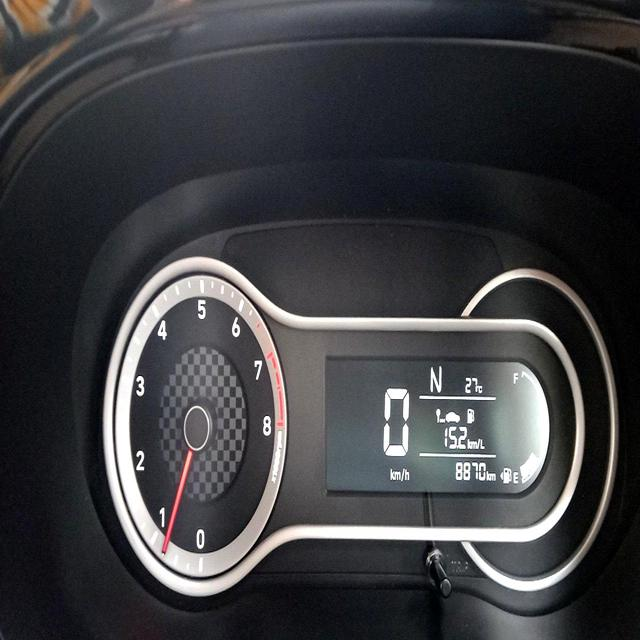odometer: (452, 456, 488, 488)
